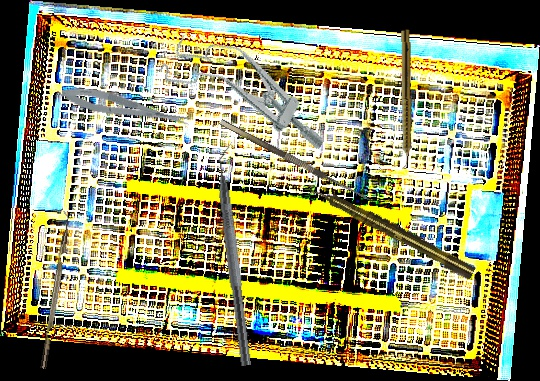Chopper: (210, 141, 267, 367), (32, 209, 74, 370)
Handpiece: (308, 181, 477, 282), (398, 29, 413, 169)
Hook Surgical: (219, 111, 378, 205)
Micro Scissor: (59, 81, 192, 135)
Speculum: (155, 18, 344, 163)
